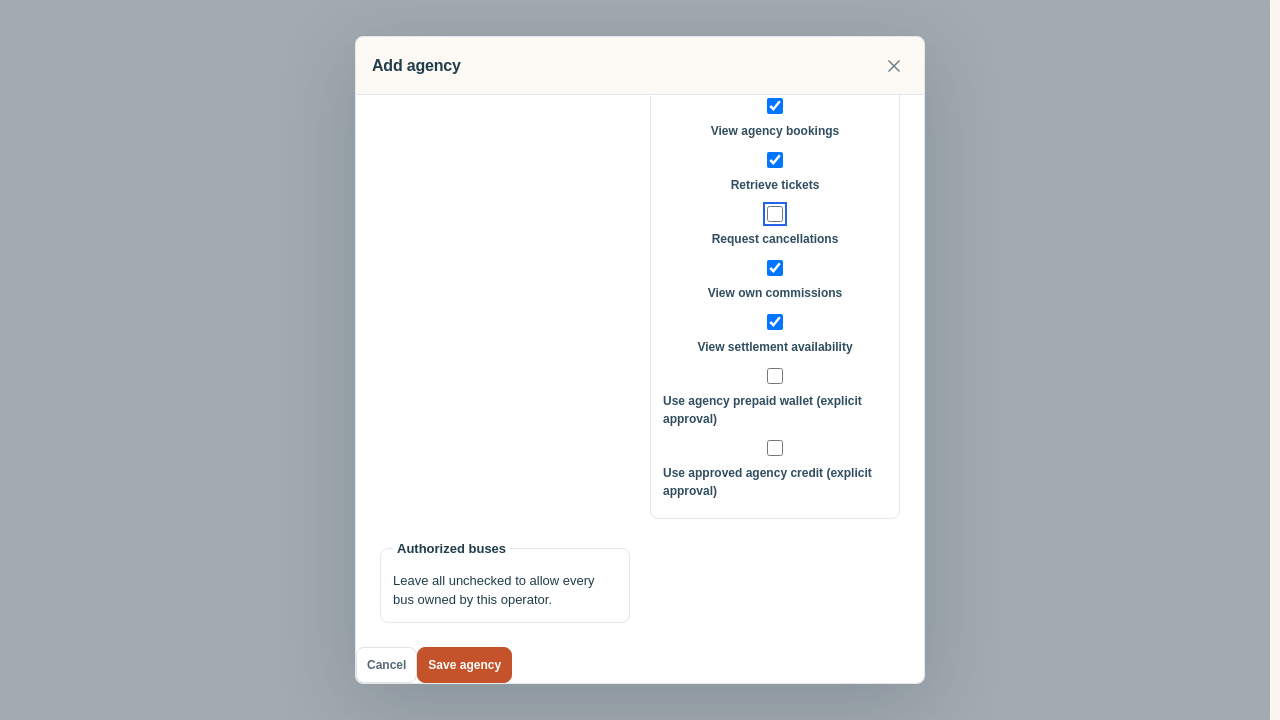
Scenario: preserves unsaved permission changes until discard is confirmed
Earlier steps of the test are not shown.
Later steps or results of the test are not shown.
(page scrolled)
Click the button "Cancel". click: (387, 664)
box: [356,646,417,682]
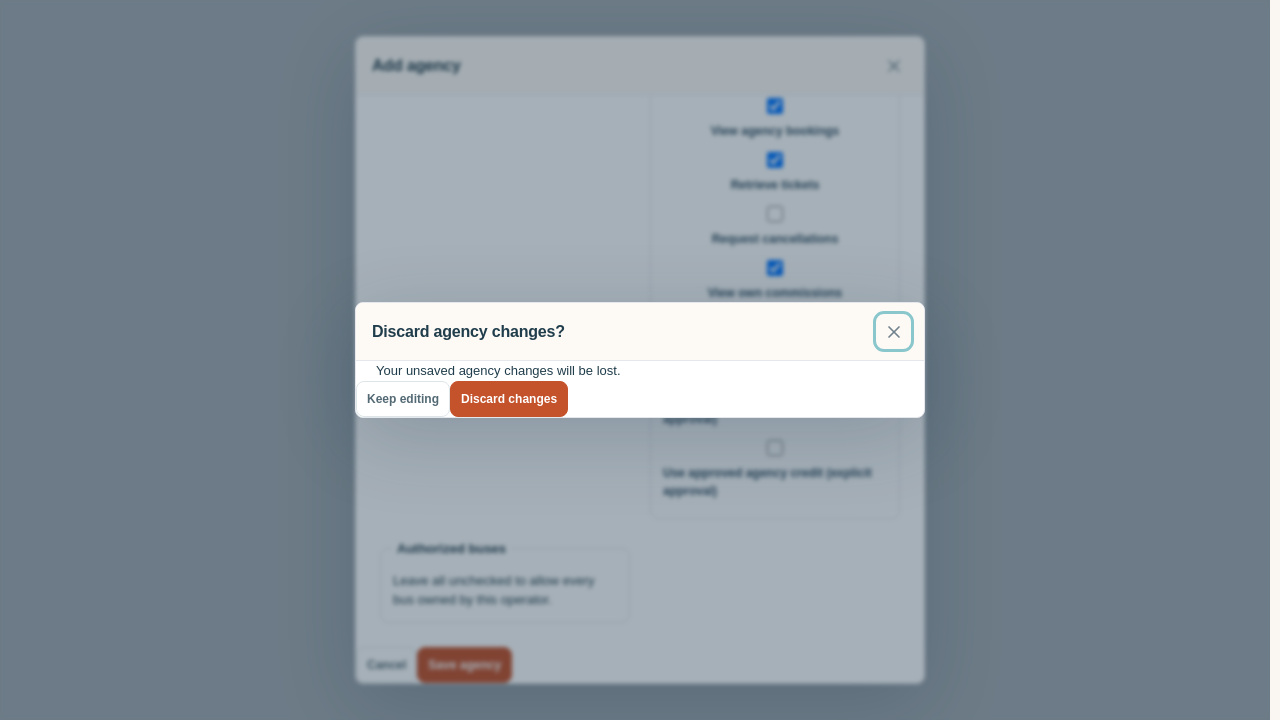
Click the button "Keep editing". click: (403, 399)
box: [356,381,450,417]
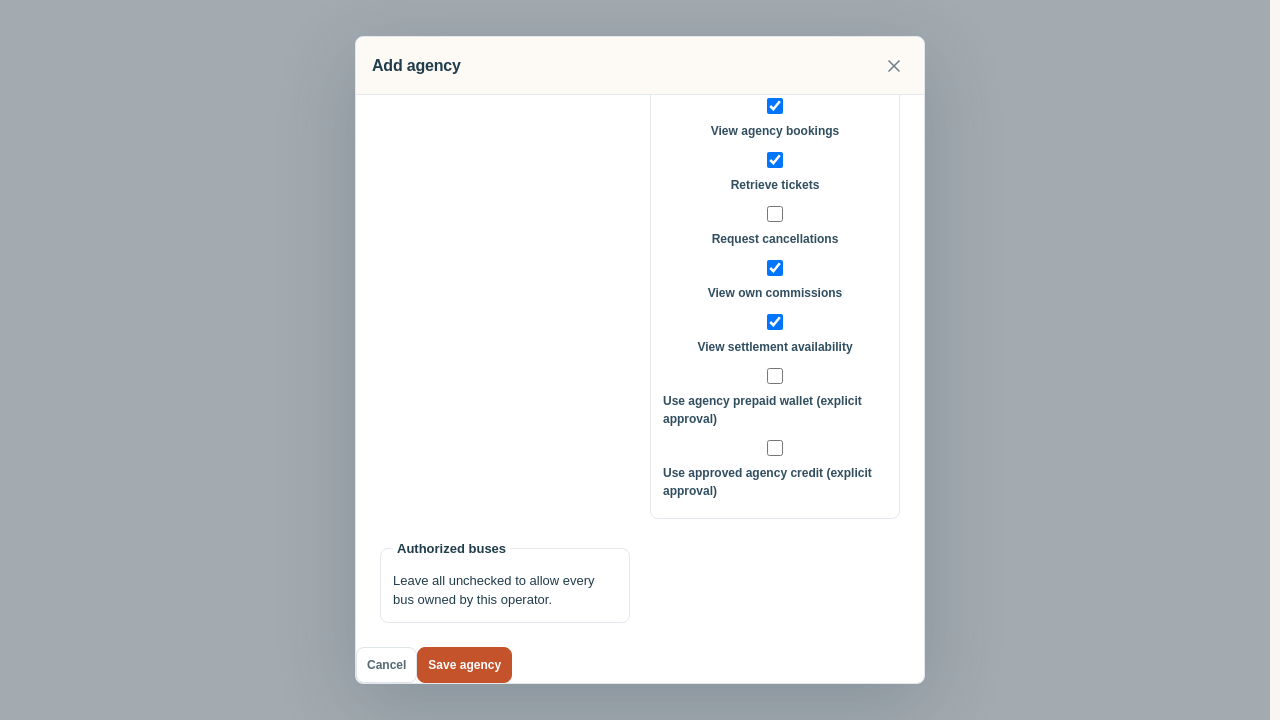
Expected: the checkbox labelled "Request cancellations" is not checked, [767,206,783,222]
